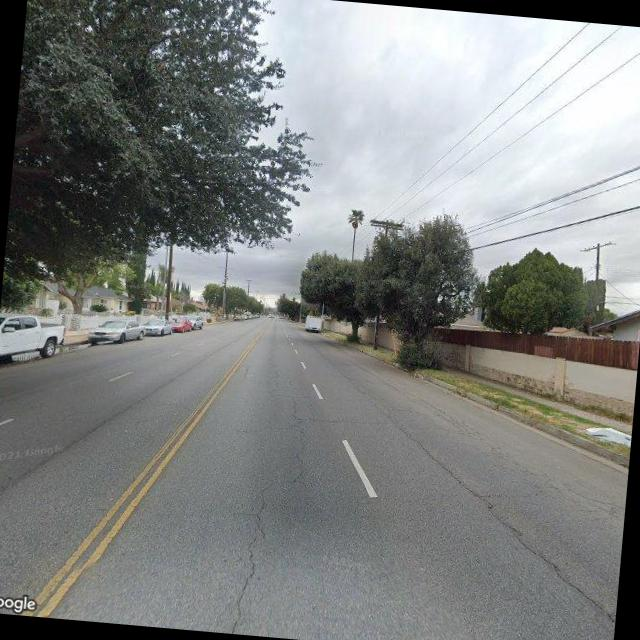crack: (358, 409, 624, 615), (219, 384, 303, 633)
